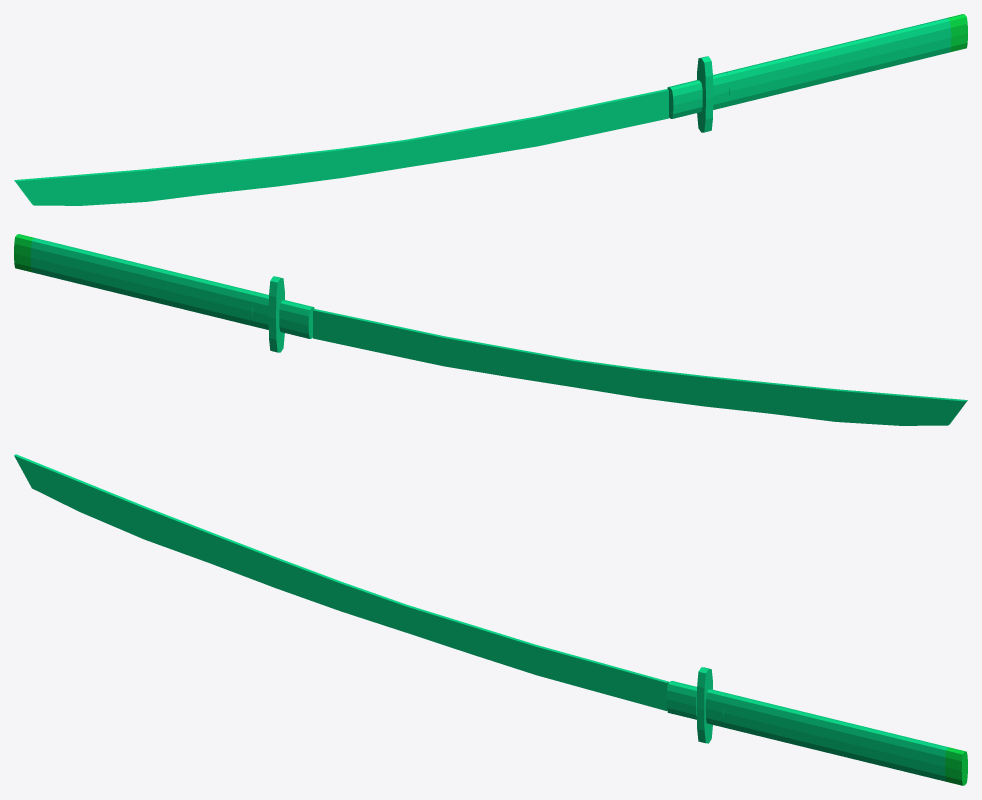
The model's file is sword_katana.fbx.
3 views of the same model, one above another, from view 1: azimuth 30°, elevation 25°; view 2: azimuth 150°, elevation 25°; view 3: azimuth 330°, elevation 25° (orthographic).
Parts seen in each view (by area): view 1: pCube1, pCylinder4, pCylinder1, pCylinder2, pCylinder5, pCylinder3; view 2: pCube1, pCylinder4, pCylinder1, pCylinder2, pCylinder5, pCylinder3; view 3: pCube1, pCylinder4, pCylinder1, pCylinder2, pCylinder5.
Part boxes in pixels (box(x1,y1,x2,y2)): pCube1: box(14, 89, 668, 205); pCylinder4: box(725, 18, 951, 106); pCylinder1: box(667, 80, 702, 118); pCylinder2: box(697, 56, 713, 132); pCylinder5: box(946, 14, 967, 52); pCylinder3: box(713, 72, 729, 109); pCube1: box(313, 309, 967, 425); pCylinder4: box(30, 238, 256, 326); pCylinder1: box(279, 300, 314, 338); pCylinder2: box(268, 276, 284, 352); pCylinder5: box(14, 234, 35, 272); pCylinder3: box(252, 292, 268, 329); pCube1: box(14, 454, 668, 710); pCylinder4: box(723, 693, 949, 781); pCylinder1: box(666, 681, 696, 719); pCylinder2: box(697, 667, 712, 743); pCylinder5: box(945, 747, 967, 785).
Size of the model in its own units: 9.86 by 1.18 by 0.1636.
